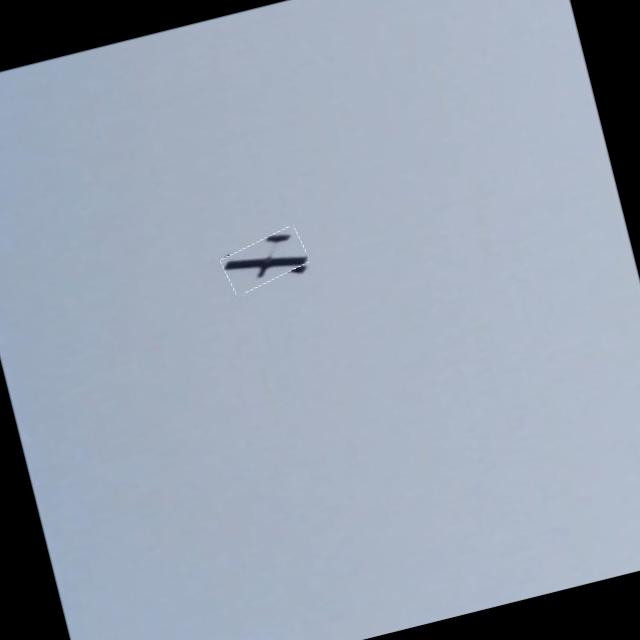UAV: (206, 222, 319, 348)
